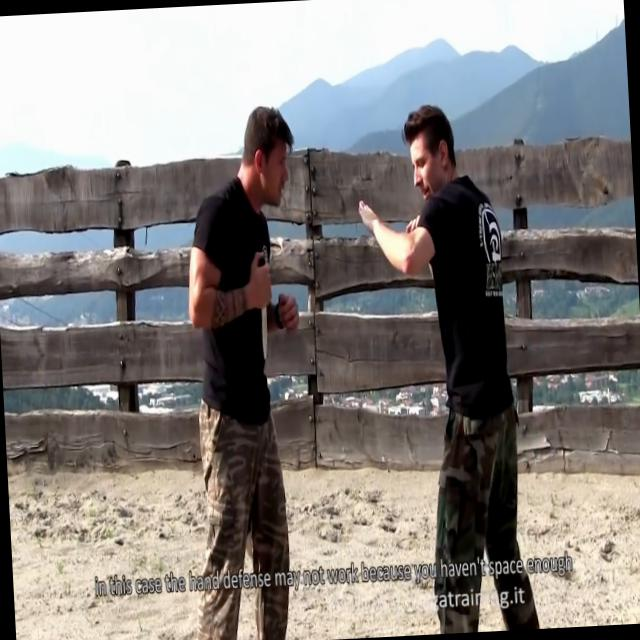knife: (245, 242, 277, 365)
